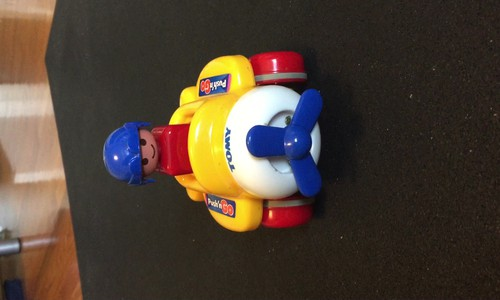toy: (97, 49, 321, 237)
